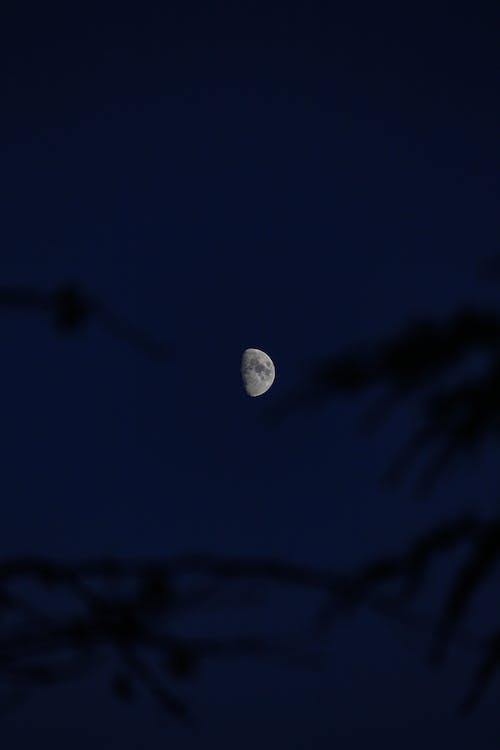moon: (218, 334, 292, 408)
